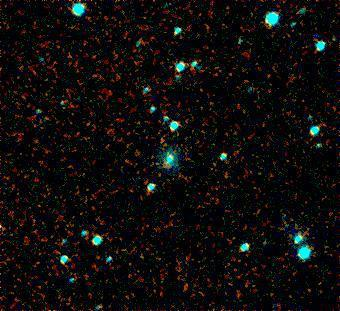star: (146, 125, 176, 155)
